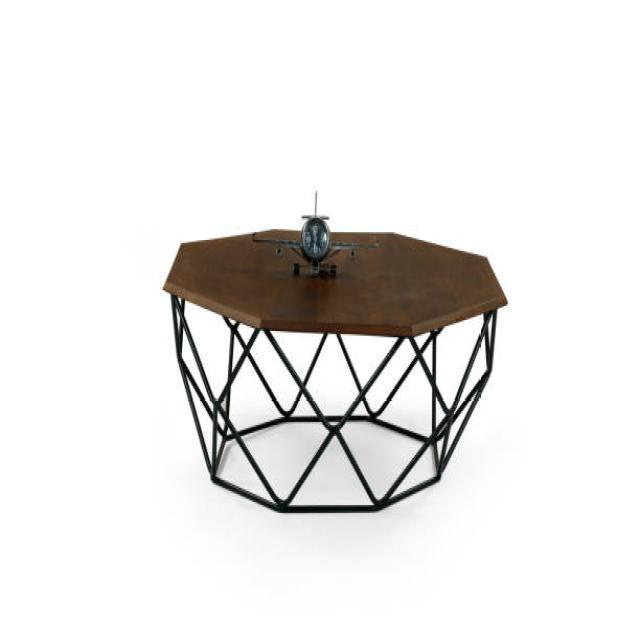table: (161, 224, 507, 513)
